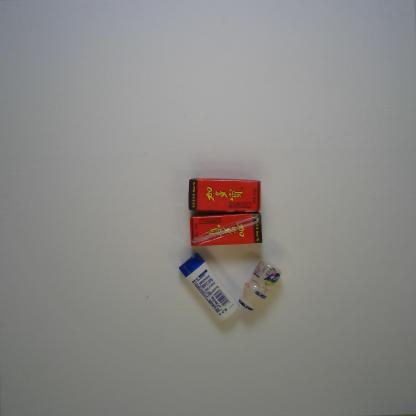Drink: (188, 177, 262, 214), (189, 211, 263, 248)
Milk: (238, 258, 282, 312)
Personal Hygiene: (178, 251, 240, 323)
